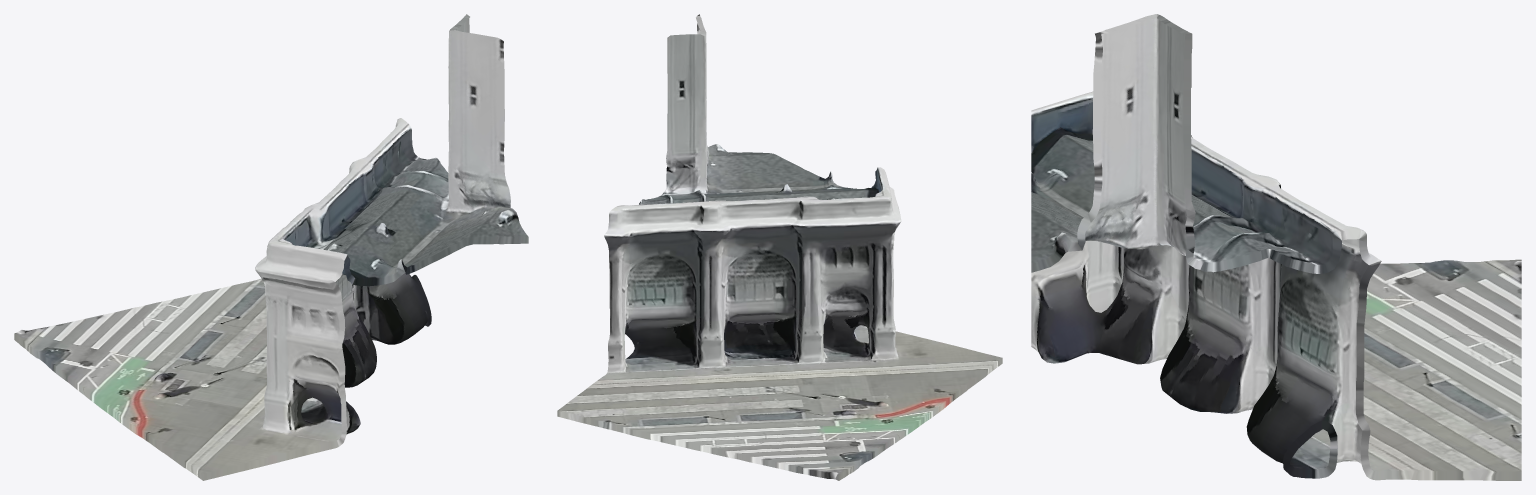
The model's file is z20-167790-405221-h0-yup-uvflip-v3-world.glb.
The picture shows the model from 3 angles, left to right: view 1: azimuth 30°, elevation 25°; view 2: azimuth 150°, elevation 25°; view 3: azimuth 270°, elevation 25°; orthographic projection. The views are drawn at different scales.
Bounding box in the file's own units: 30.16 × 30.6 × 30.32.
Materials: 1 (1 with a texture image).
